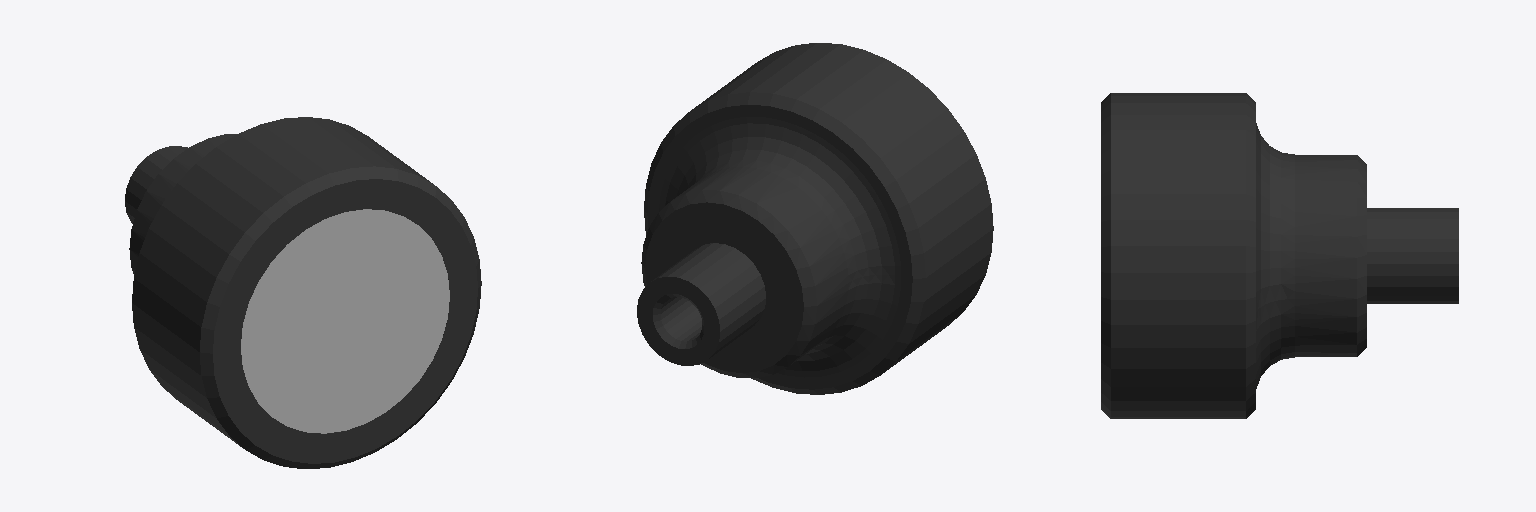
3 views of the same model, side by side, from view 1: azimuth 30°, elevation 25°; view 2: azimuth 150°, elevation 25°; view 3: azimuth 270°, elevation 25° (orthographic).
Visible parts, largest first — view 1: gn_3663-34-m6-1_1; view 2: gn_3663-34-m6-1_1; view 3: gn_3663-34-m6-1_1.
Boxes of the visible parts, box(x1,y1,x2,y2) form: gn_3663-34-m6-1_1: box(125, 117, 481, 468); gn_3663-34-m6-1_1: box(637, 43, 993, 394); gn_3663-34-m6-1_1: box(1101, 93, 1458, 418).
Size of the model in its own units: 33.7 by 33.58 by 37.